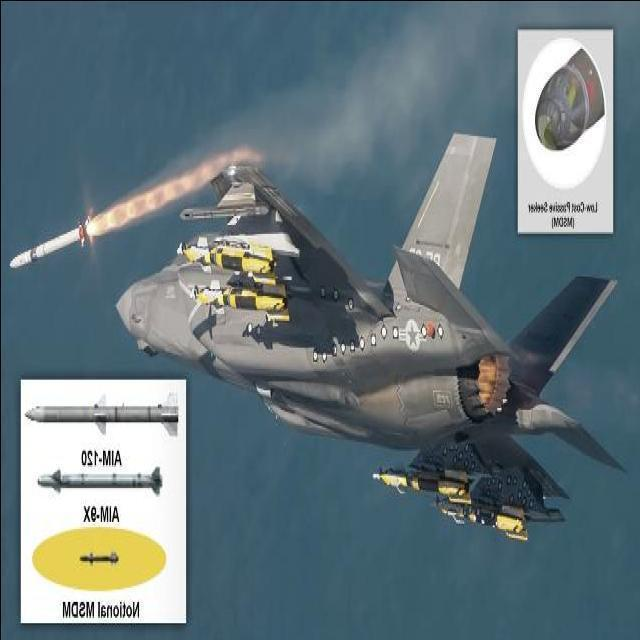missile: (25, 392, 185, 437), (178, 228, 282, 277), (438, 499, 535, 548), (180, 285, 292, 323), (369, 463, 465, 504), (39, 464, 167, 493), (9, 225, 91, 269)
